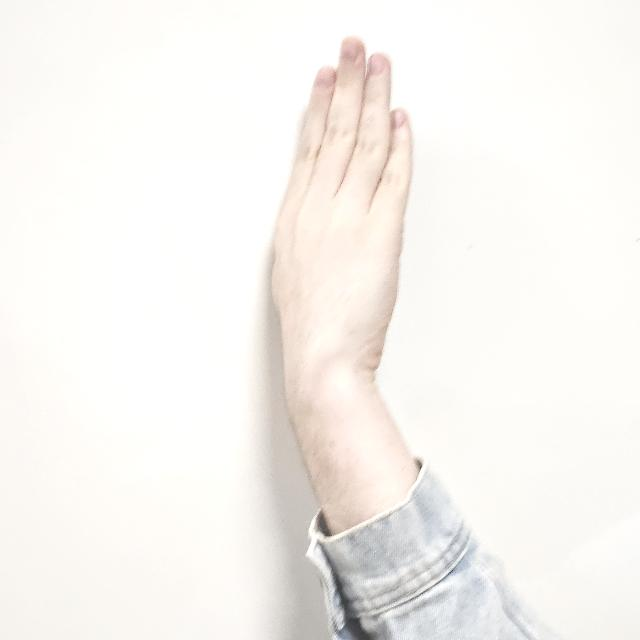Baixo: (277, 27, 427, 401)
